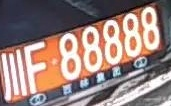F: (24, 42, 46, 94)
